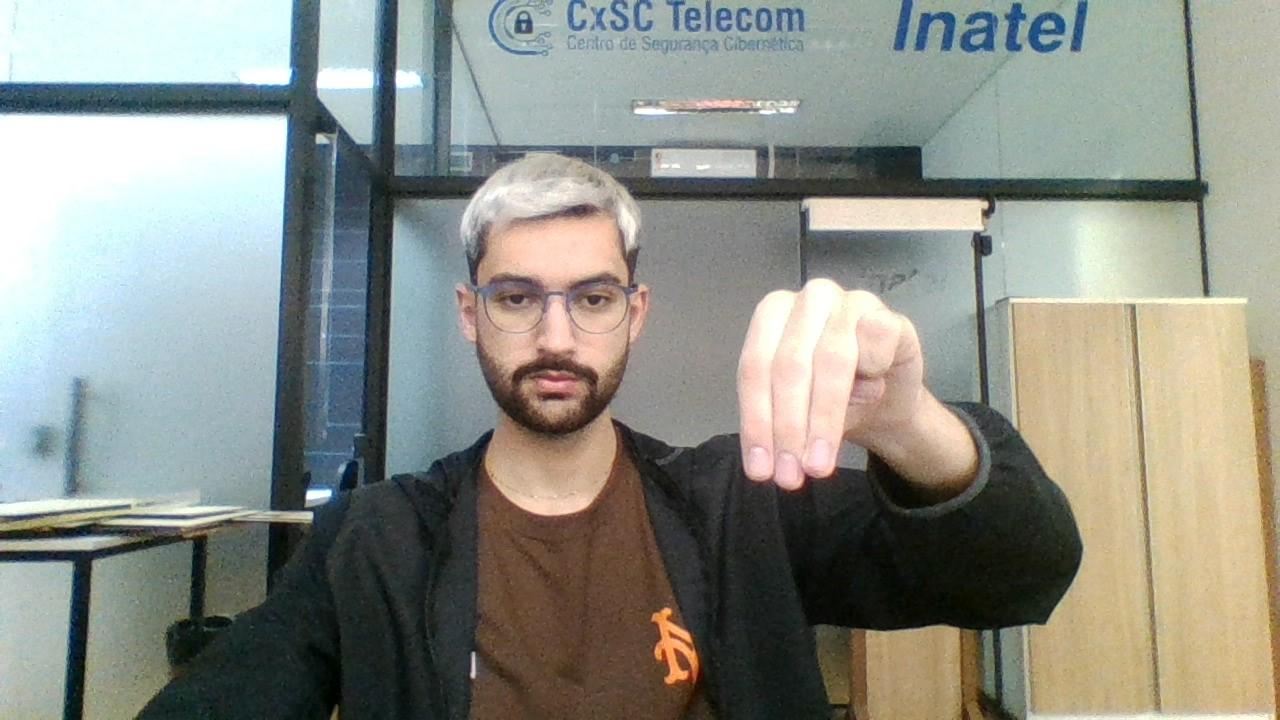M: (730, 274, 934, 492)
